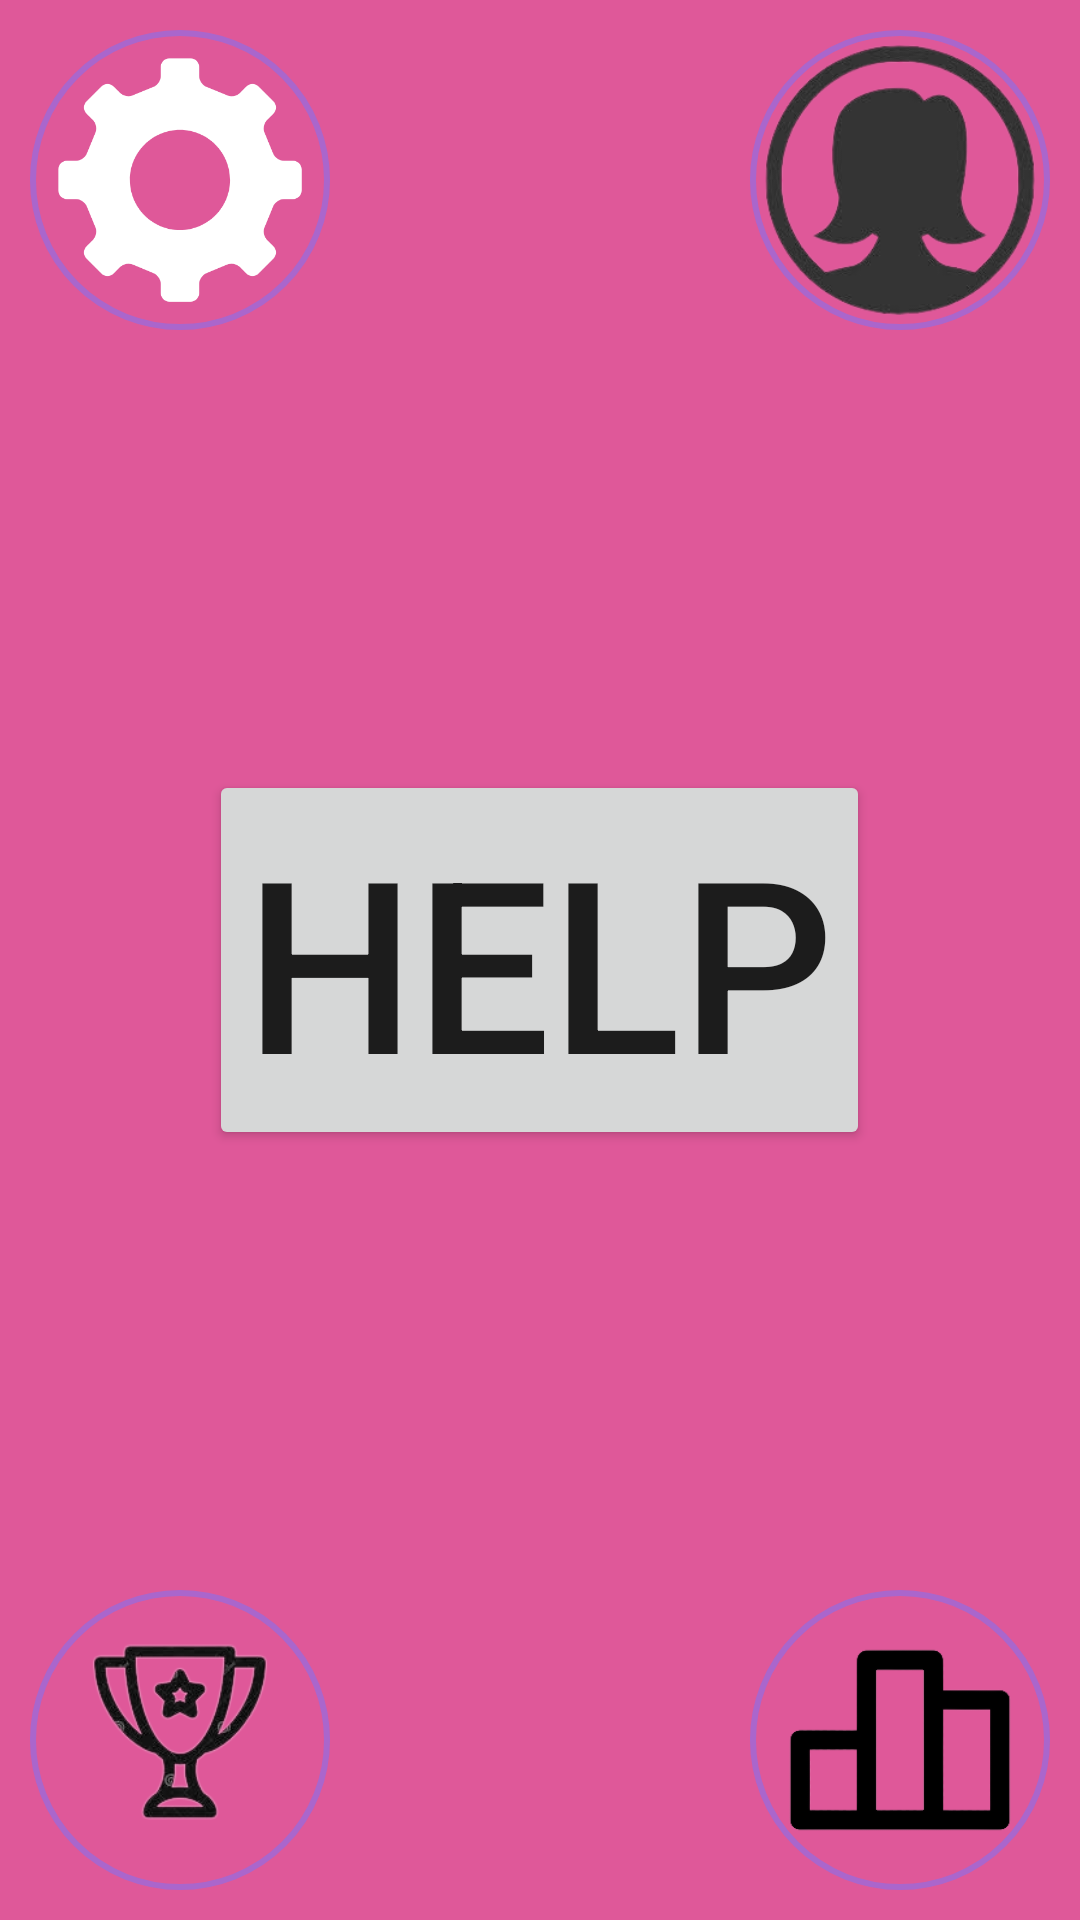

Icons on this 1080w x 1920h Android screen, each with its box as box=[x1, y1, x2, y2]:
leaderboard: box=[750, 1590, 1050, 1890]
profile pic: box=[750, 30, 1050, 330]
rewards: box=[30, 1590, 330, 1890]
settings: box=[30, 30, 330, 330]
